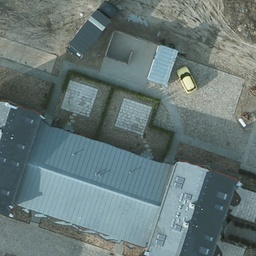car: (176, 65, 198, 96)
